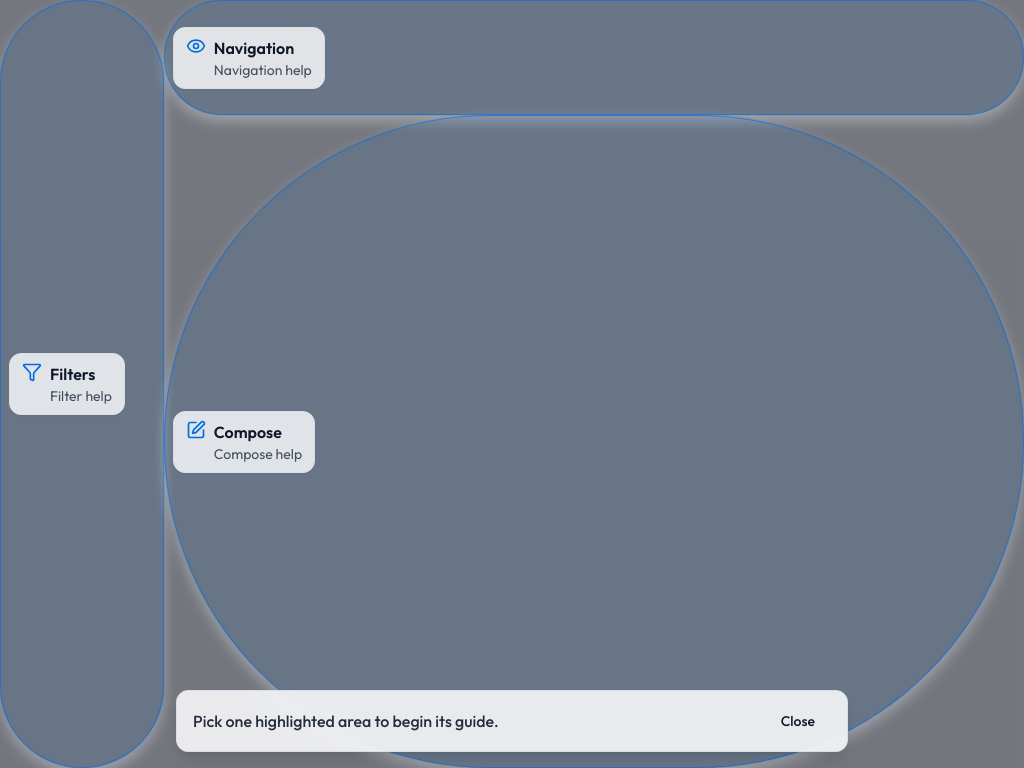
Test: OnboardingGuide breadcrumb transitions › starts manual section picks on global step numbering and allows back to earlier global steps
The image size is (1024, 768).
Step 1. Click the button "Compose Compose help" → click(594, 442), box [164, 115, 1023, 767]
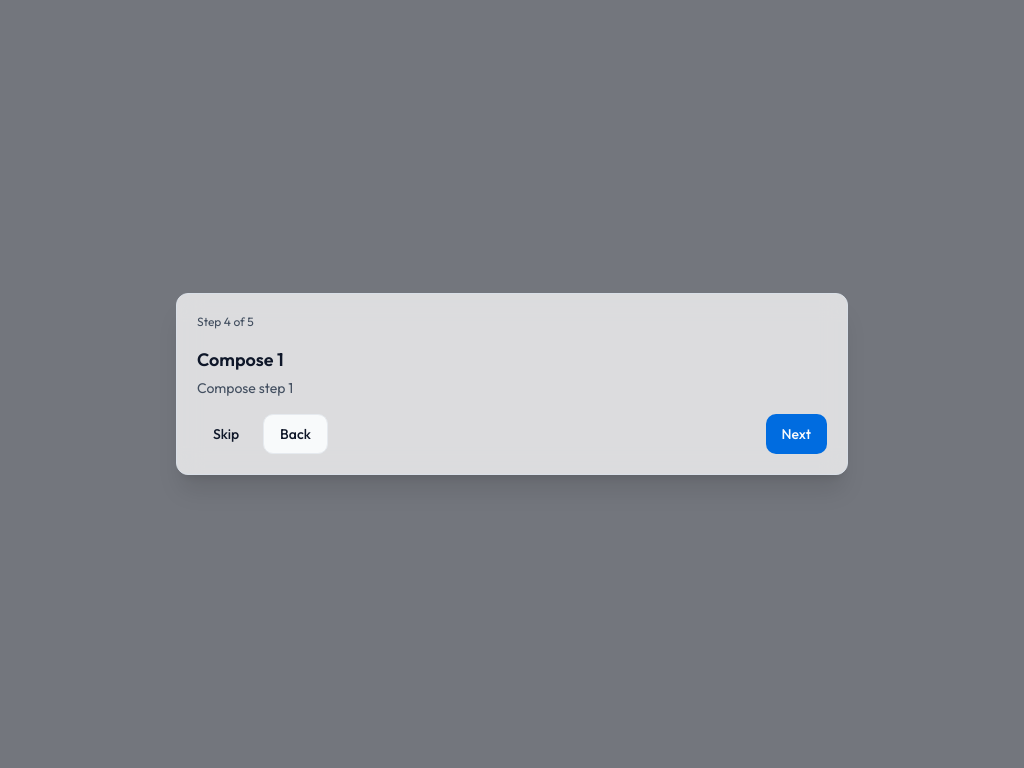
Now the heading "Compose 1" is shown, box [197, 348, 284, 371]
Now the text "Step 4 of 5" is shown, box [197, 314, 254, 329]
Step 2. Click the button "Back" → click(296, 434), box [263, 414, 328, 454]
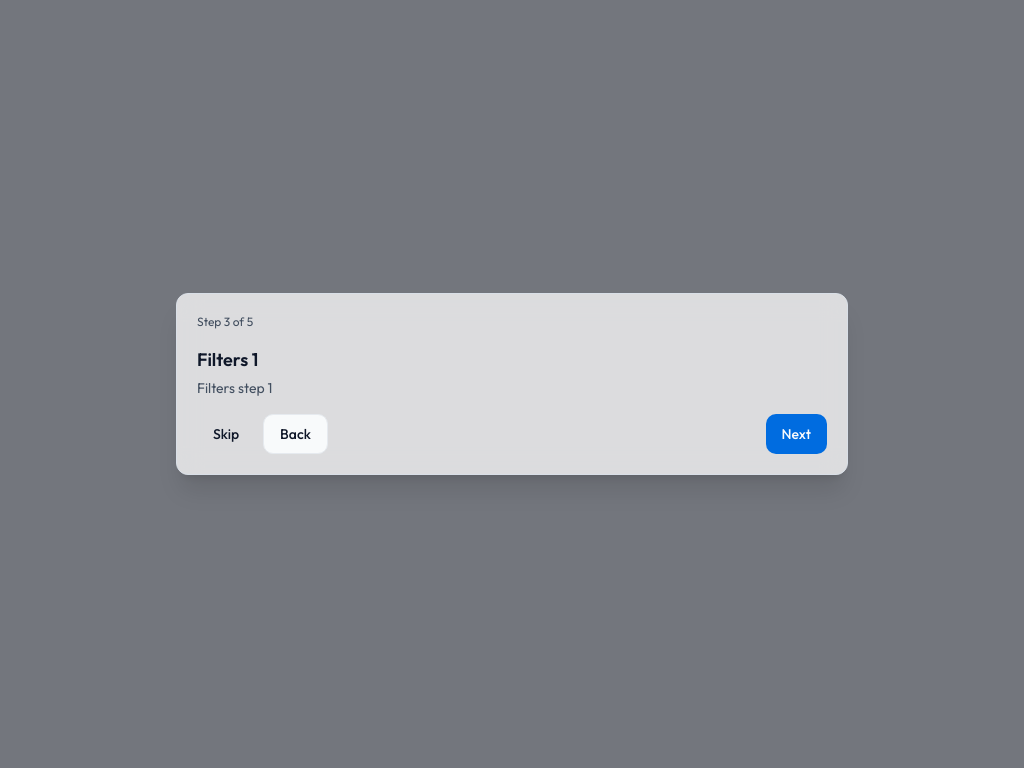
Now the heading "Filters 1" is shown, box [197, 348, 258, 371]
Now the text "Step 3 of 5" is shown, box [197, 314, 253, 329]
